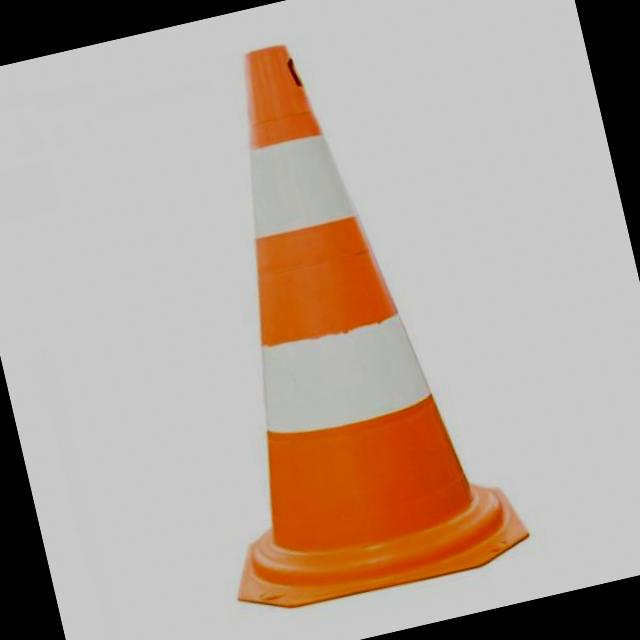cone: (121, 8, 542, 622)
